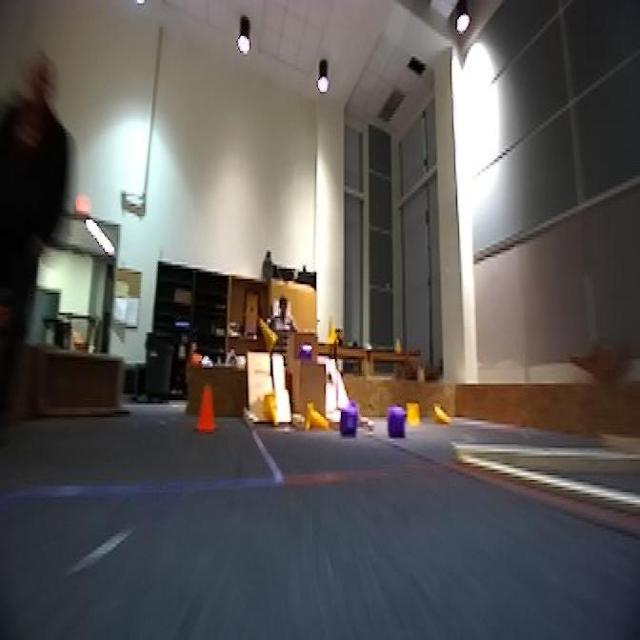frc_cone: (304, 400, 330, 436), (256, 317, 279, 354), (260, 390, 282, 427), (405, 400, 421, 437), (323, 318, 339, 354), (432, 403, 452, 429)
frc_cube: (384, 403, 408, 442), (337, 405, 356, 439), (297, 336, 315, 362)
